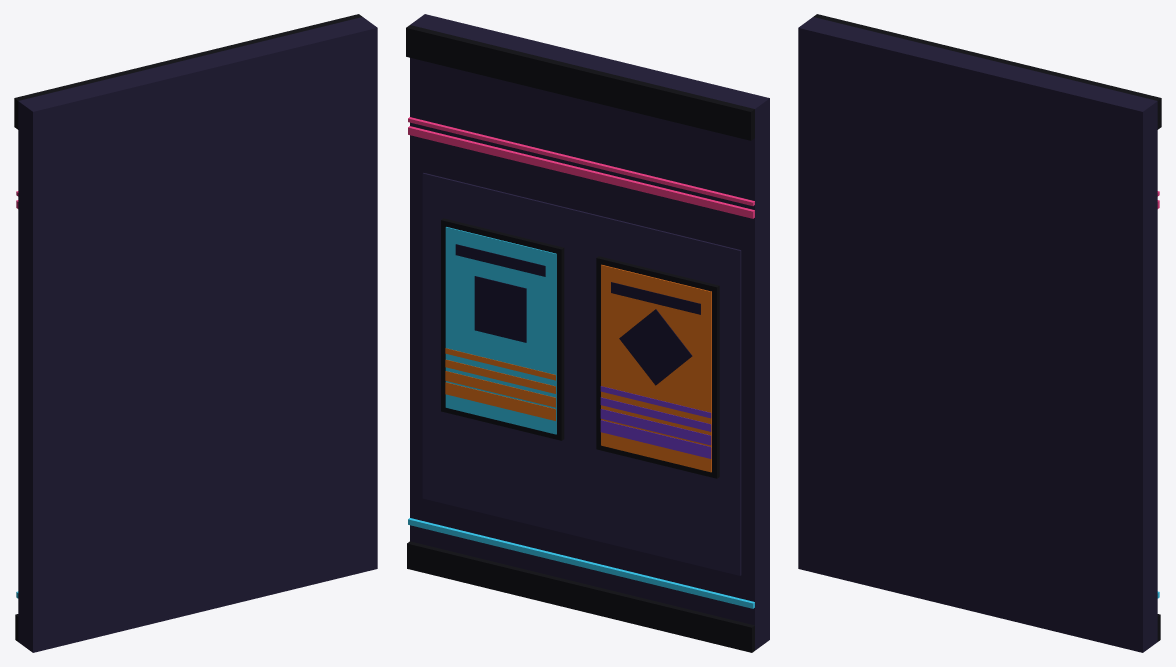
The model's file is Wall_Poster.obj.
3 views of the same model, side by side, from view 1: azimuth 30°, elevation 25°; view 2: azimuth 150°, elevation 25°; view 3: azimuth 330°, elevation 25° (orthographic).
Visible parts, largest first — view 1: Wall_Poster; view 2: Wall_Poster; view 3: Wall_Poster.
Part boxes in pixels (x1,y1,x2,y2): Wall_Poster: (14,14,377,652); Wall_Poster: (406,14,769,652); Wall_Poster: (798,14,1161,652).
Size of the model in its own units: 2 by 3 by 0.195.
